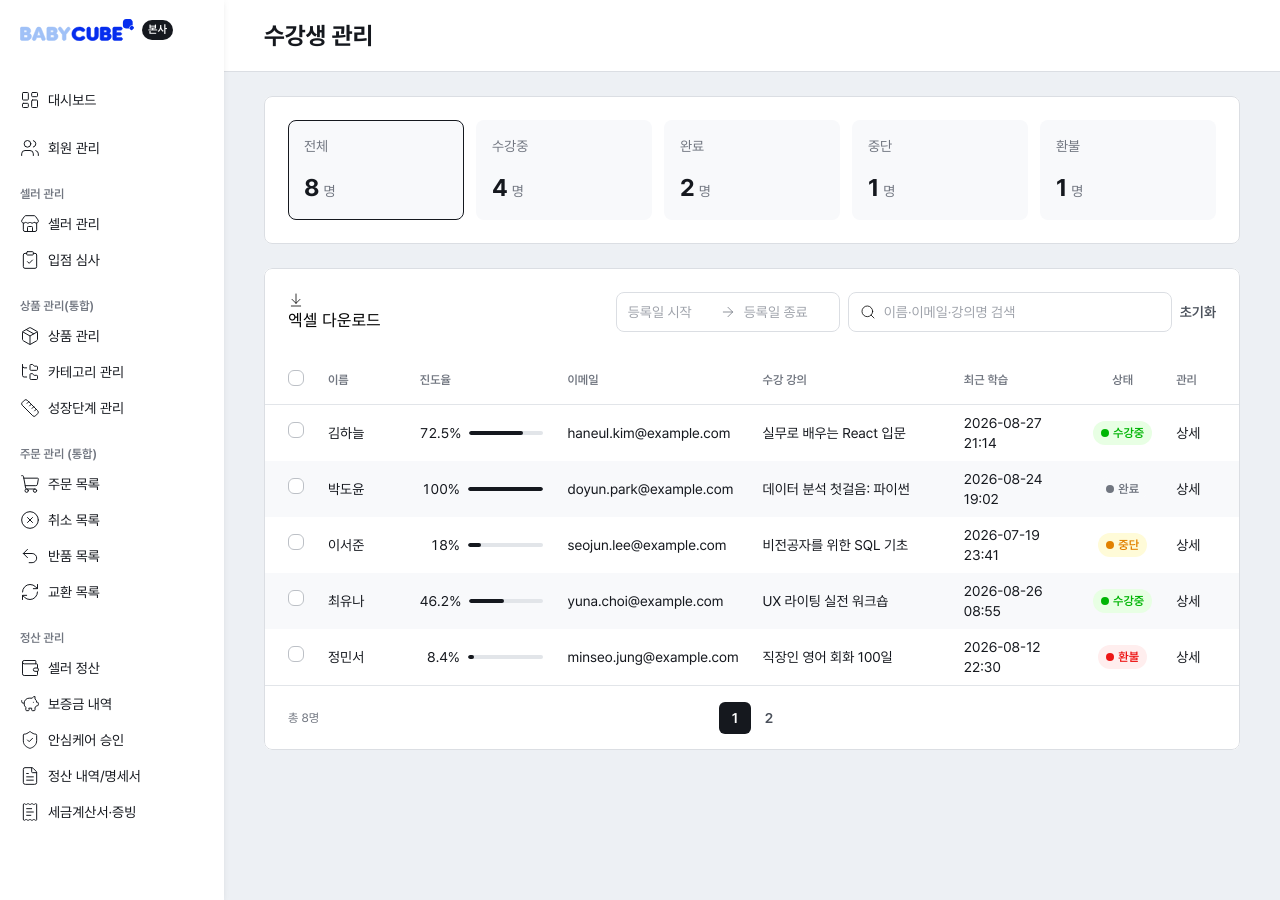
StudentListPage (수강생 관리) › 독려 메일 (F08) › 헤더 체크박스로 이 페이지를 통째로 고른다
Click the checkbox named "이 페이지 전체 선택" at (296, 378), box left=288, top=370, right=304, bottom=386
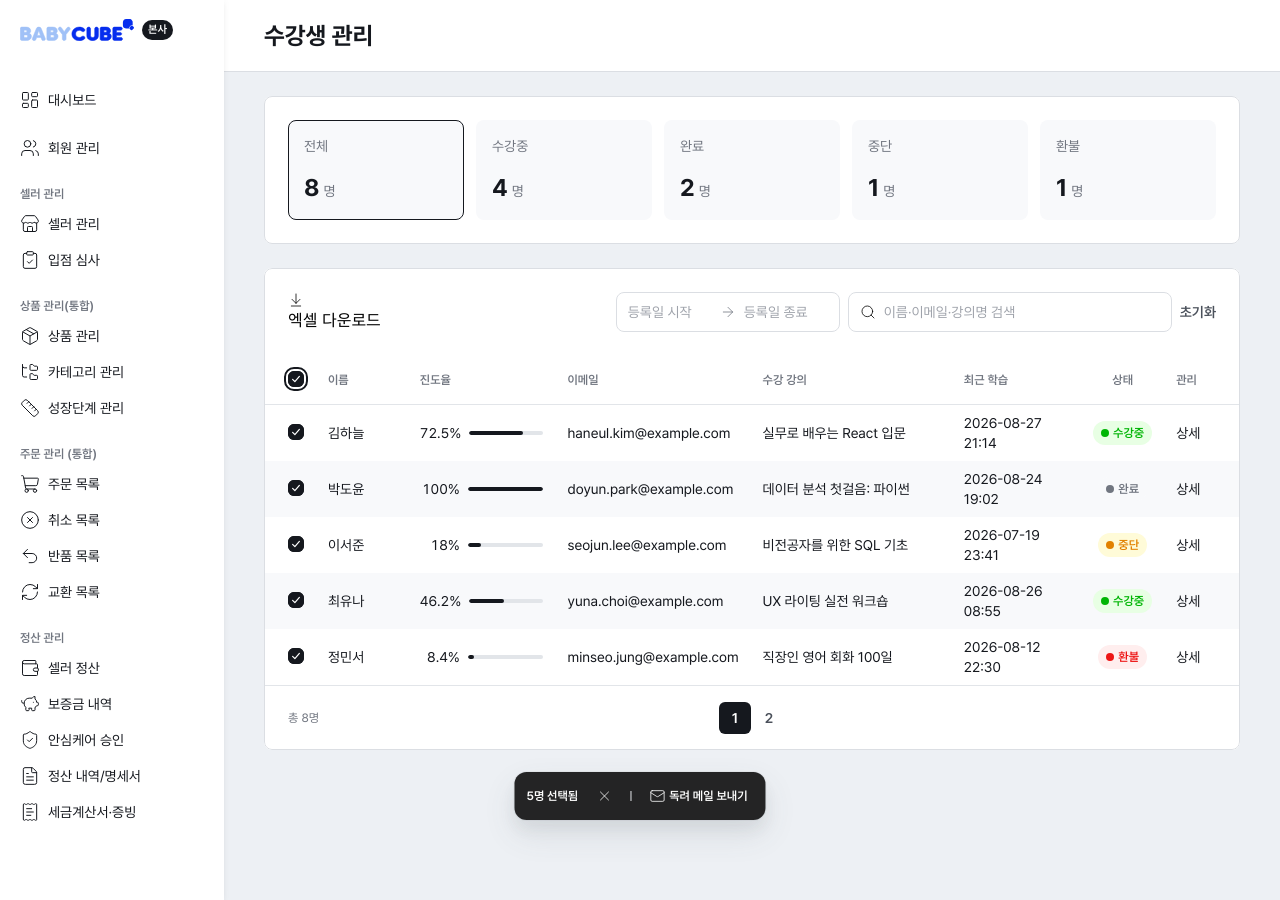
Expected: the message reads "5명 선택됨", left=526, top=789, right=578, bottom=803
